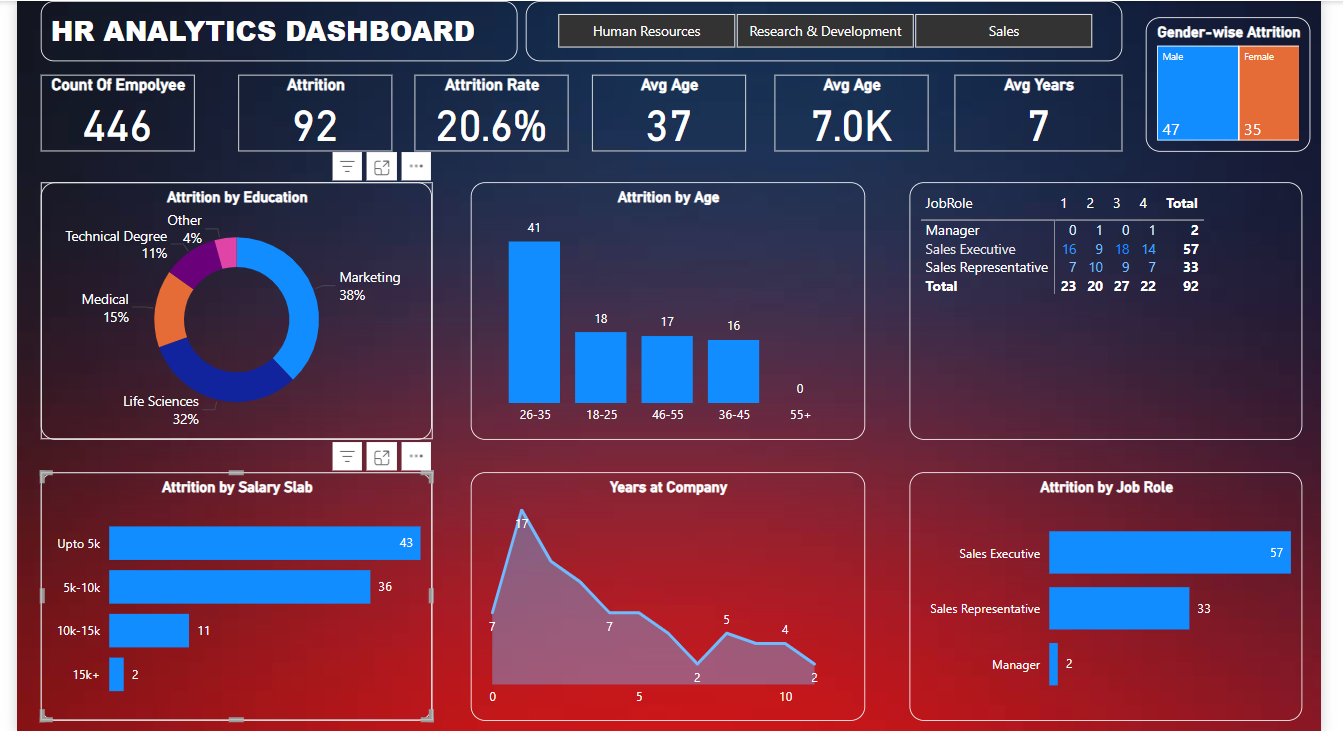

The page's visual inventory and layout, read from the dashboard file:
{"tool":"powerbi","page":{"name":"Page 1","canvas":[1280,720],"ordinal":0},"visuals":[{"type":"card","title":"Count Of Empolyee","fields":{"Values":["CountNonNull(HR_Analytics.EmpID)"]},"box":[23.3,72.7,150.9,75.5],"z":0},{"type":"card","title":"Attrition","fields":{"Values":["Sum(HR_Analytics.Attritioncount)"]},"box":[216.8,72.7,150.9,75.5],"z":1000},{"type":"card","title":"Attrition Rate","fields":{"Values":["HR_Analytics.AtteitionRate"]},"box":[389.7,72.7,150.9,75.5],"z":2000},{"type":"card","title":"Avg Age","fields":{"Values":["Avg(HR_Analytics.Age)"]},"box":[564,72.7,150.9,75.5],"z":3000},{"type":"card","title":"Avg Age","fields":{"Values":["Avg(HR_Analytics.MonthlyIncome)"]},"box":[743.7,72.7,150.9,75.5],"z":4000},{"type":"card","title":"Avg Years","fields":{"Values":["Avg(HR_Analytics.YearsAtCompany)"]},"box":[920.8,72.7,164.7,75.5],"z":5000},{"type":"donutChart","title":"Attrition by Education","fields":{"Category":["HR_Analytics.EducationField"],"Y":["Sum(HR_Analytics.Attritioncount)"]},"box":[23.3,178.4,384.2,252.5],"z":6000},{"type":"columnChart","title":"Attrition by Age","fields":{"Y":["Sum(HR_Analytics.Attritioncount)"],"Category":["HR_Analytics.AgeGroup"]},"box":[446,178.4,387,252.5],"z":7000},{"type":"pivotTable","fields":{"Columns":["HR_Analytics.JobSatisfaction"],"Rows":["HR_Analytics.JobRole"],"Values":["Sum(HR_Analytics.Attritioncount)"]},"box":[875.5,178.4,385.6,252.5],"z":8000},{"type":"barChart","title":"Attrition by Salary Slab","fields":{"Category":["HR_Analytics.SalarySlab"],"Y":["Sum(HR_Analytics.Attritioncount)"]},"box":[23.3,462.4,384.2,244.3],"z":9000},{"type":"barChart","title":"Attrition by Job Role","fields":{"Y":["Sum(HR_Analytics.Attritioncount)"],"Category":["HR_Analytics.JobRole"]},"box":[875.5,462.4,385.6,244.3],"z":10000},{"type":"areaChart","title":"Years at Company","fields":{"Category":["HR_Analytics.YearsAtCompany"],"Y":["Sum(HR_Analytics.Attritioncount)"]},"box":[446,462.4,387,244.3],"z":11000},{"type":"treemap","title":"Gender-wise Attrition","fields":{"Group":["HR_Analytics.Gender"],"Values":["Sum(HR_Analytics.Attritioncount)"]},"box":[1107.4,16.5,161.9,131.7],"z":12000},{"type":"slicer","fields":{"Values":["HR_Analytics.Department"]},"box":[499.5,0,585.9,59],"z":13000},{"type":"textbox","box":[23.3,0,467.9,59],"z":14000}]}

Visuals, with their boxes in screenshot pixels (x1, y1, x2, y2):
"Count Of Empolyee" card: bbox(31, 68, 188, 147)
"Attrition" card: bbox(232, 68, 389, 147)
"Attrition Rate" card: bbox(411, 68, 568, 147)
"Avg Age" card: bbox(592, 68, 749, 147)
"Avg Age" card: bbox(779, 68, 936, 147)
"Avg Years" card: bbox(963, 68, 1134, 147)
"Attrition by Education" donutChart: bbox(31, 178, 430, 440)
"Attrition by Age" columnChart: bbox(470, 178, 872, 440)
pivotTable - HR_Analytics.JobSatisfaction x HR_Analytics.JobRole: bbox(916, 178, 1316, 440)
"Attrition by Salary Slab" barChart: bbox(31, 473, 430, 727)
"Attrition by Job Role" barChart: bbox(916, 473, 1316, 727)
"Years at Company" areaChart: bbox(470, 473, 872, 727)
"Gender-wise Attrition" treemap: bbox(1156, 10, 1324, 147)
slicer - HR_Analytics.Department: bbox(525, 0, 1134, 54)
textbox: bbox(31, 0, 517, 54)
